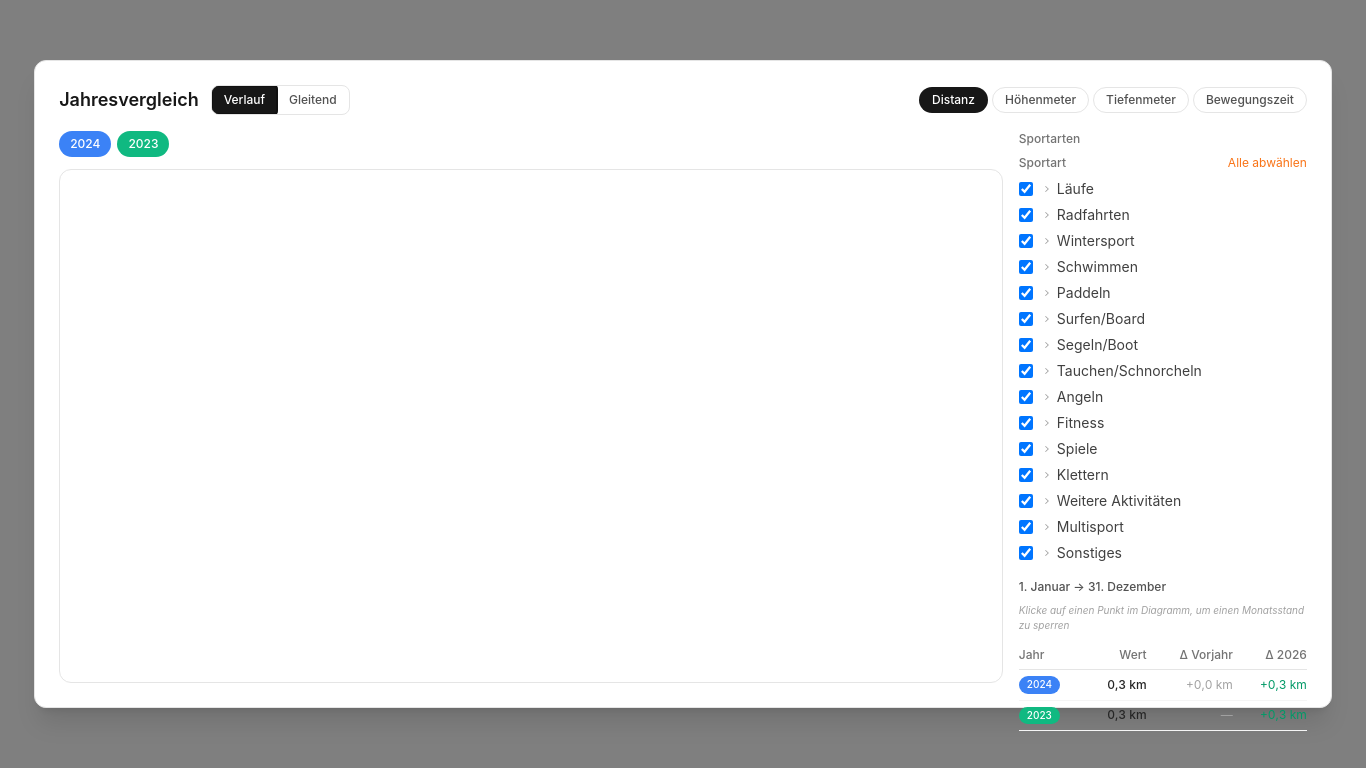
Test case: YearProgressionFullscreenModal › period-selector: multiplier input updates period days hint
Click the button "Gleitend": click(313, 100) 277,86 -> 349,114
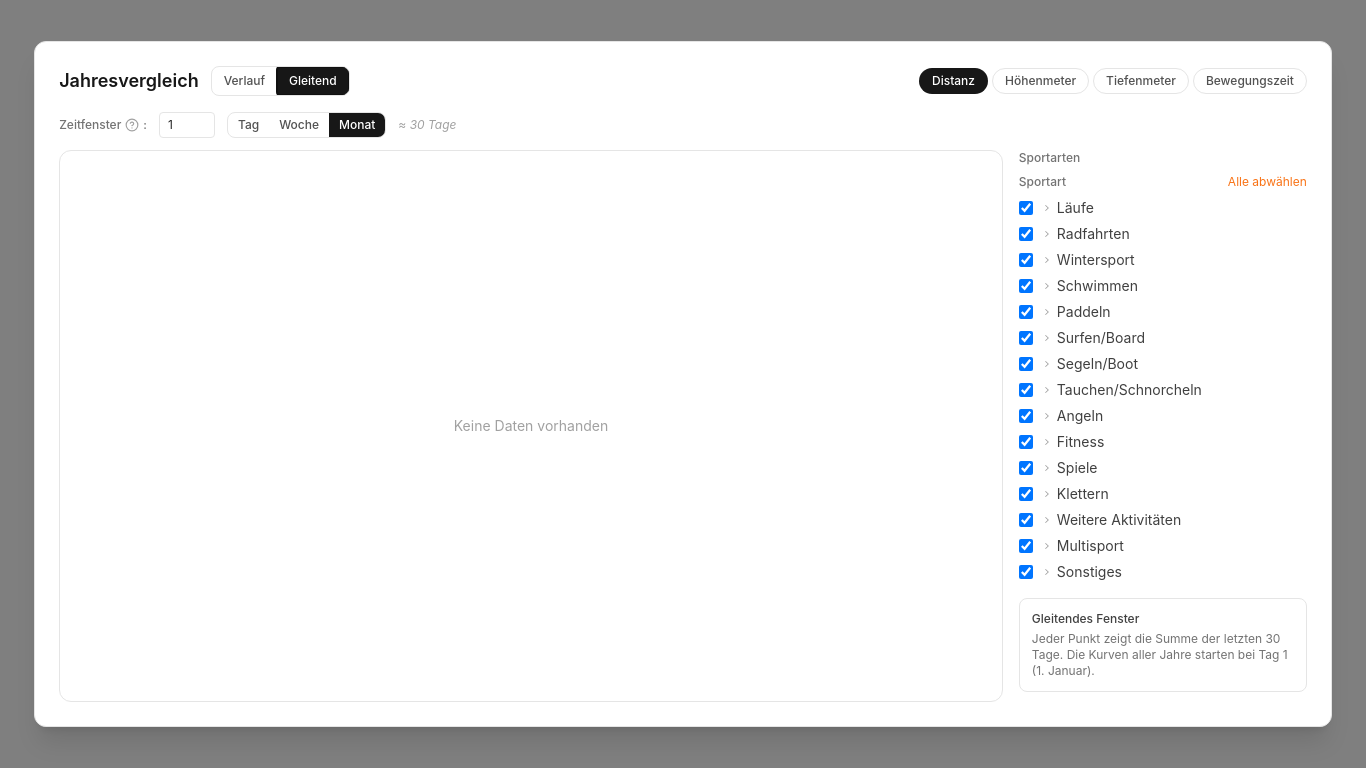
Check: the text "≈ 30 Tage" is shown, box 398,117 -> 456,133
Click the button "Woche": click(299, 125) 269,113 -> 329,137
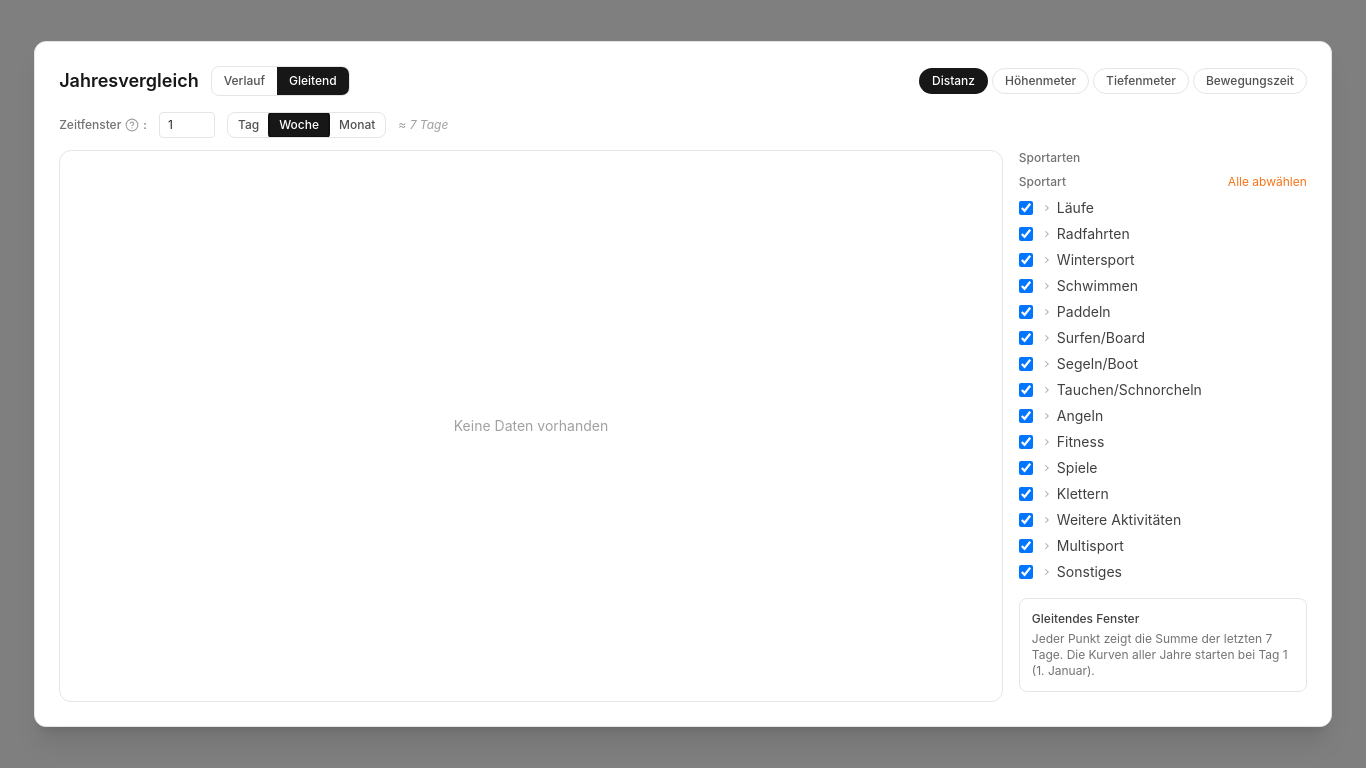
Check: the text "≈ 7 Tage" is shown, box 398,117 -> 448,133
Replace the text in the number field named "Zeitfenster-Anzahl" with "2": (187, 125) 159,112 -> 215,138
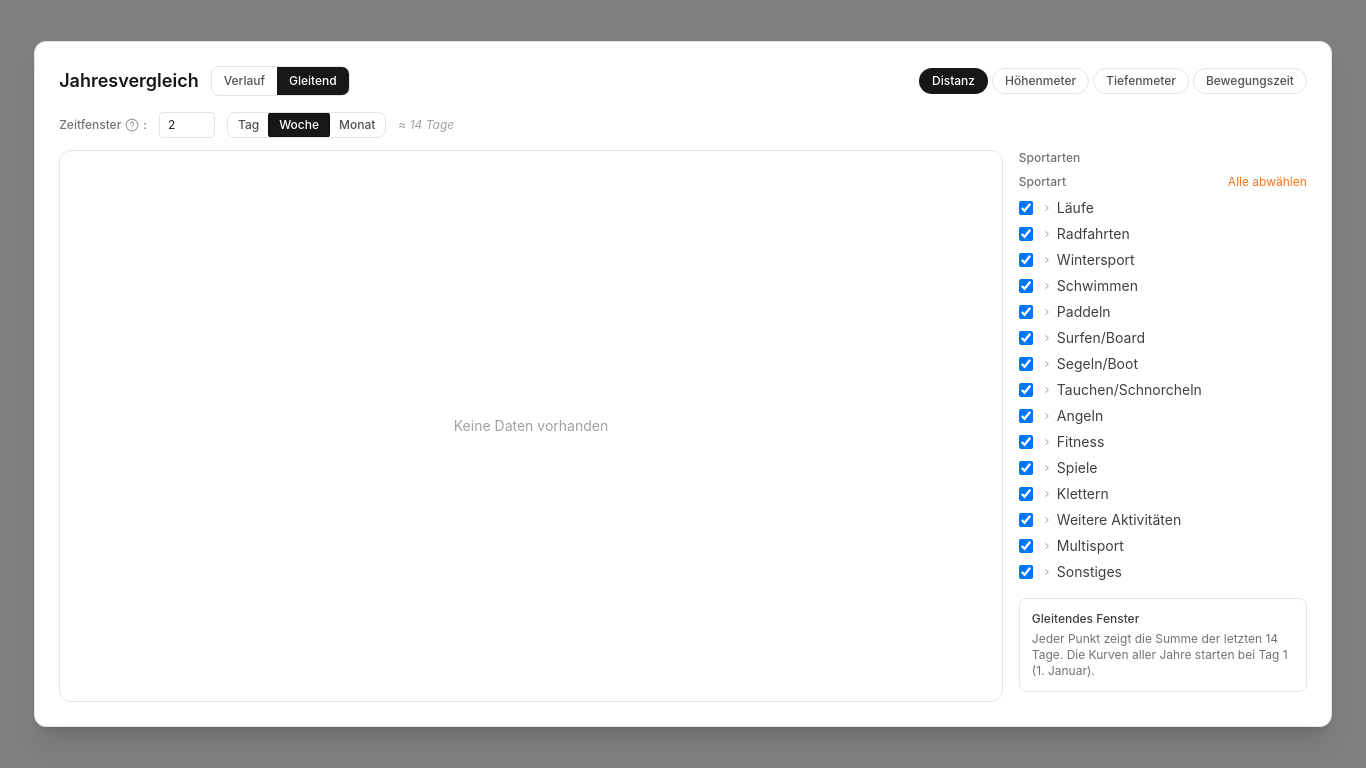
Check: the text "≈ 14 Tage" is shown, box 398,117 -> 454,133
